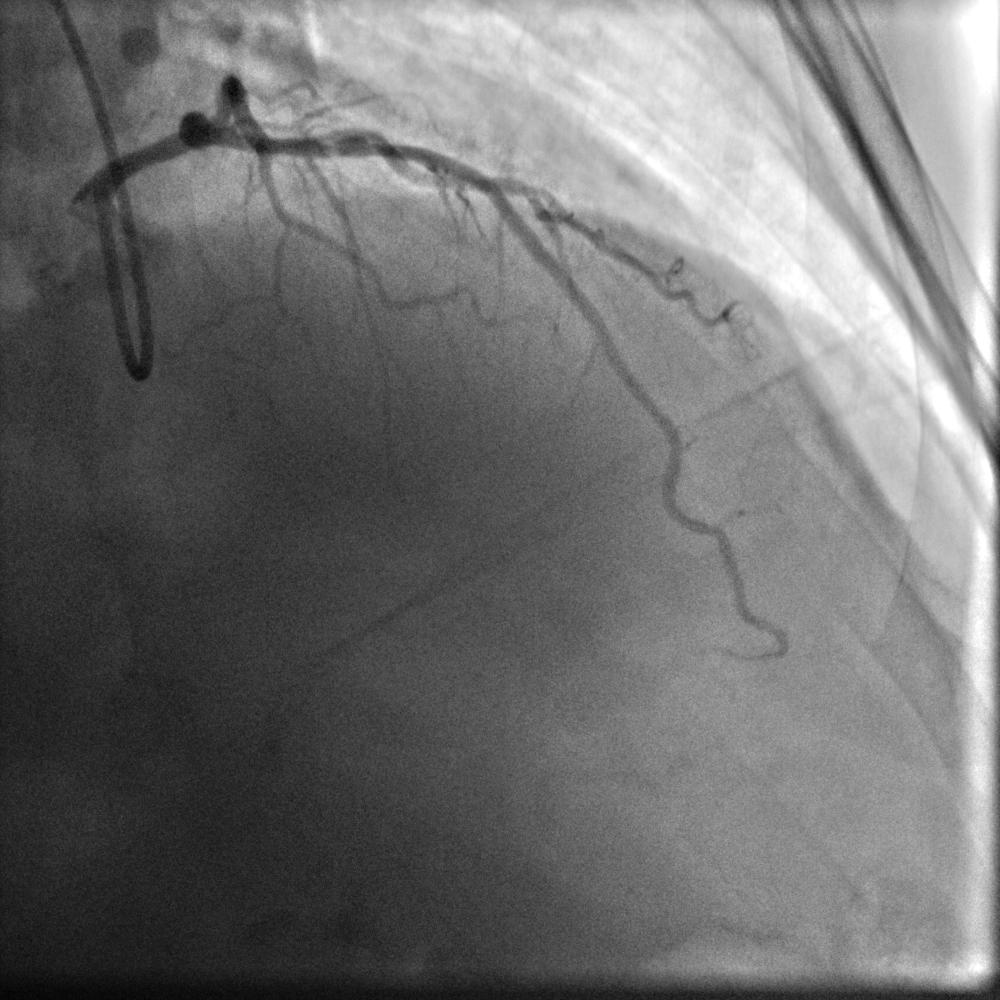Stenosis: (321, 141, 347, 159)
